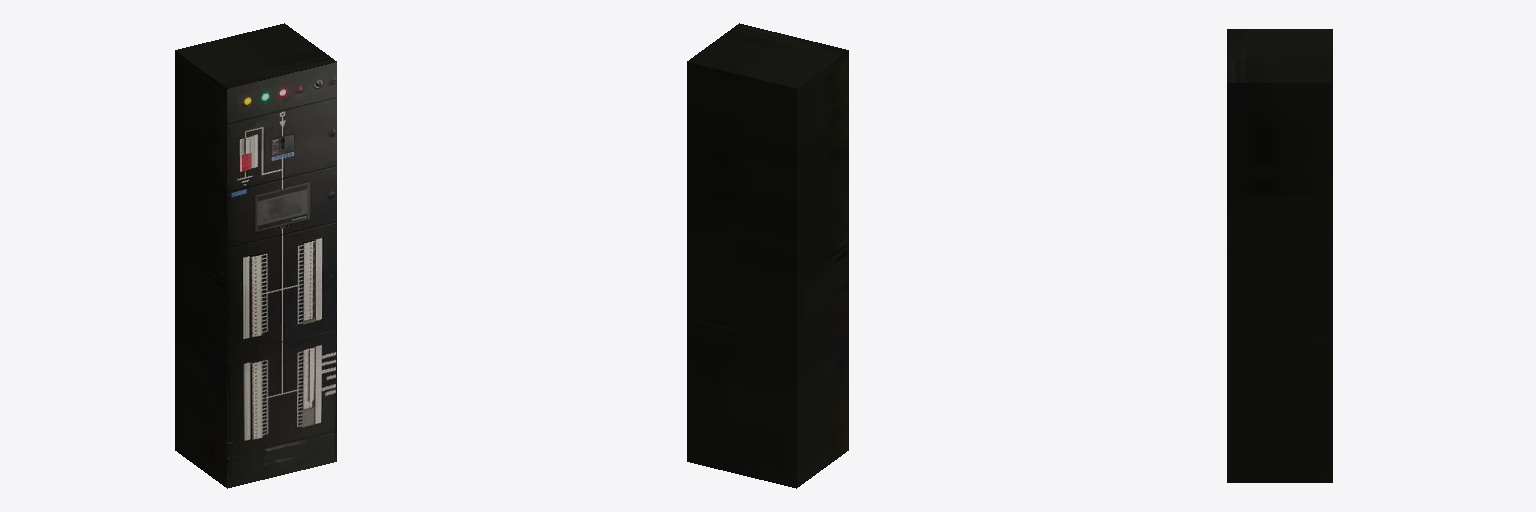
3 views of the same model, side by side, from view 1: azimuth 30°, elevation 25°; view 2: azimuth 150°, elevation 25°; view 3: azimuth 270°, elevation 25° (orthographic).
Visible parts, largest first — view 1: Box001; view 2: Box001; view 3: Box001.
Part boxes in pixels (x1,y1,x2,y2): Box001: (175, 23, 336, 488); Box001: (687, 23, 848, 488); Box001: (1227, 29, 1332, 482).
Bounding box in the file's own units: 44.19 × 153 × 36.52.
Materials: 1 (1 with a texture image).